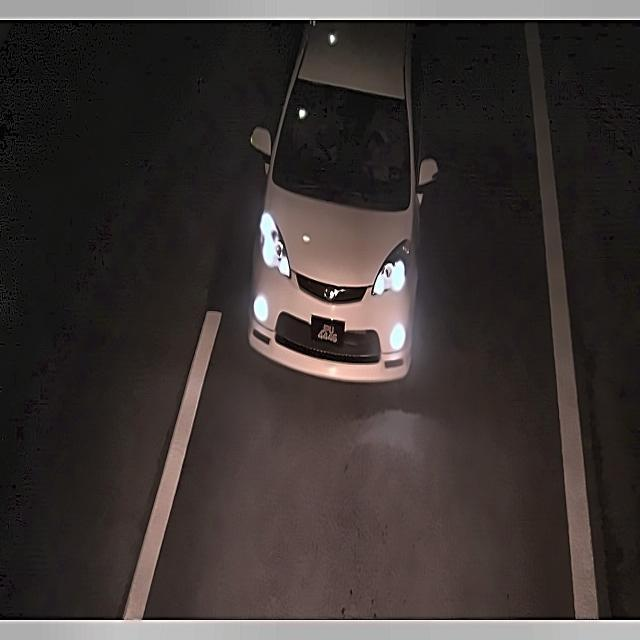car: (311, 312, 346, 356)
